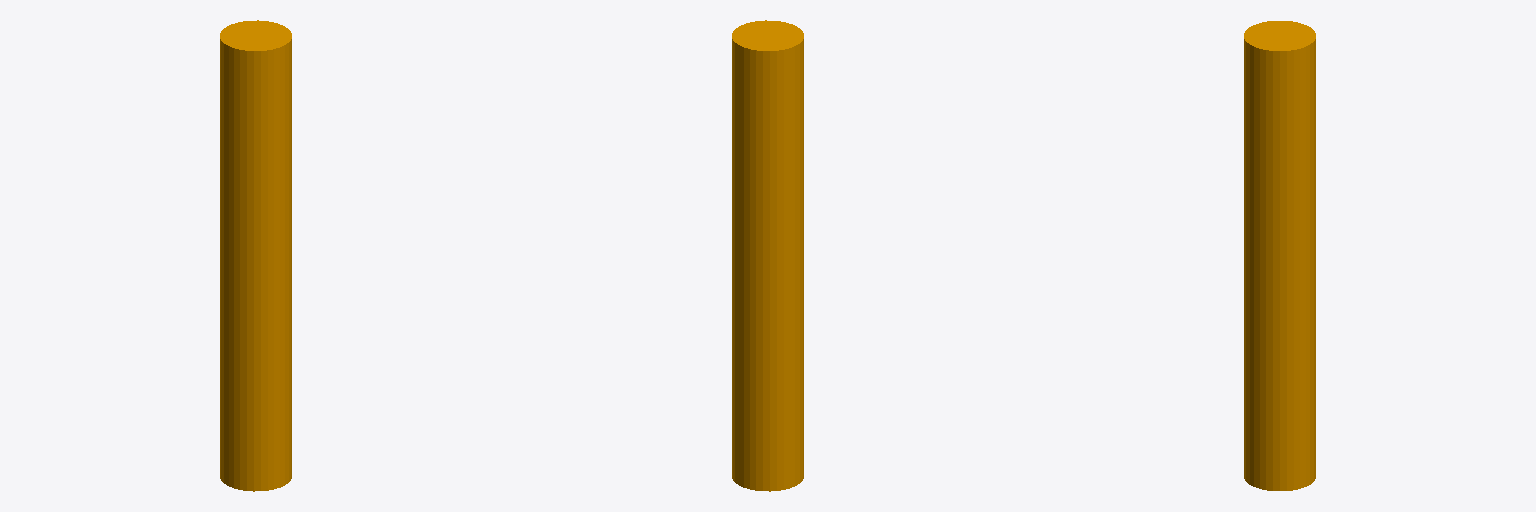
URDF robot description (cylinder):
<?xml version="1.0"?>
<robot name="cylinder">
  <link name="cylinder_base">
    <visual>
      <origin rpy="0 0 0" xyz="0 0 0"/>
      <geometry>
          <cylinder length="1" radius="0.075"/>
      </geometry>   
    </visual>

    <collision>
      <origin rpy="0 0 0" xyz="0 0 0"/>
      <geometry>
          <cylinder length="1" radius="0.075"/>
      </geometry> 
    </collision>

    <inertial>
      <mass value="1"/>
      <inertia ixx="0.145833" ixy="0" ixz="0" iyy="0.145833" iyz="0" izz="0.125"/>
    </inertial>  
  </link>
</robot>

--- Facts derived from the render (not from the file) ---
Views: 3 orthographic renders of the robot side by side, from view 1: azimuth 30°, elevation 25°; view 2: azimuth 150°, elevation 25°; view 3: azimuth 270°, elevation 25°.
Robot: cylinder — 1 links, 0 joints (none); root link cylinder_base; default pose: all joints at 0.
Links seen in each view (by area): view 1: cylinder_base; view 2: cylinder_base; view 3: cylinder_base.
Link boxes in pixels (x1,y1,x2,y2): cylinder_base: (220, 20, 291, 491); cylinder_base: (732, 20, 803, 491); cylinder_base: (1244, 21, 1315, 490).
Bounding box of the posed robot: 0.15 × 0.15 × 1 m (x, y, z).
Geometry: primitives only (box / cylinder / sphere), no mesh files.